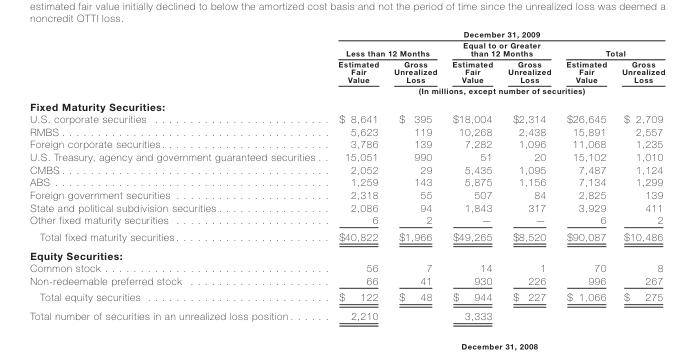table: (29, 28, 664, 321)
table column: (29, 28, 325, 321), (325, 28, 385, 321), (385, 28, 443, 321), (499, 28, 557, 321), (443, 28, 499, 321), (557, 28, 613, 321), (613, 28, 664, 321)
table column header: (29, 28, 664, 97)
table projected row header: (29, 245, 664, 261), (29, 97, 664, 112)
table row: (29, 58, 664, 84), (29, 39, 664, 58), (29, 227, 664, 245), (29, 288, 664, 306), (29, 245, 664, 261), (29, 97, 664, 112), (29, 306, 664, 321), (29, 213, 664, 227), (29, 274, 664, 288), (29, 84, 664, 97), (29, 124, 664, 137), (29, 137, 664, 150), (29, 162, 664, 175), (29, 175, 664, 188), (29, 200, 664, 213), (29, 261, 664, 274), (29, 112, 664, 124), (29, 150, 664, 162), (29, 188, 664, 200), (29, 28, 664, 39)
table spanning cell: (325, 84, 664, 97), (325, 28, 664, 39), (325, 39, 443, 58), (443, 39, 557, 58), (557, 39, 664, 58)
